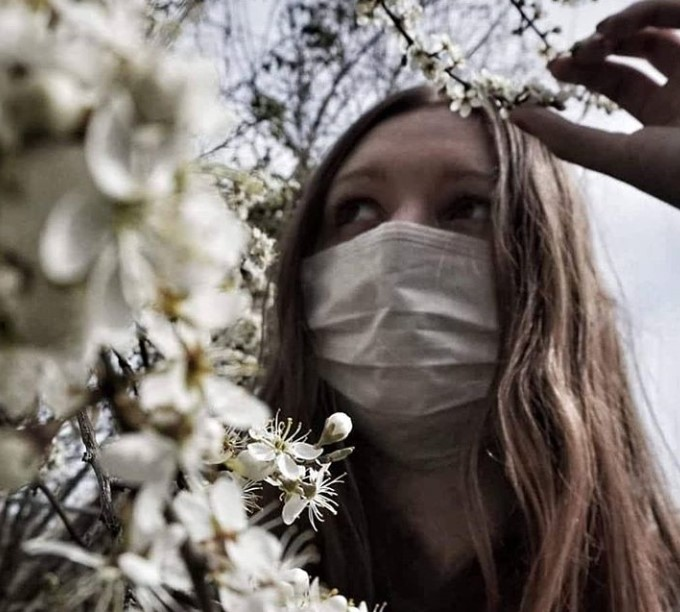face_with_mask: (296, 102, 528, 465)
